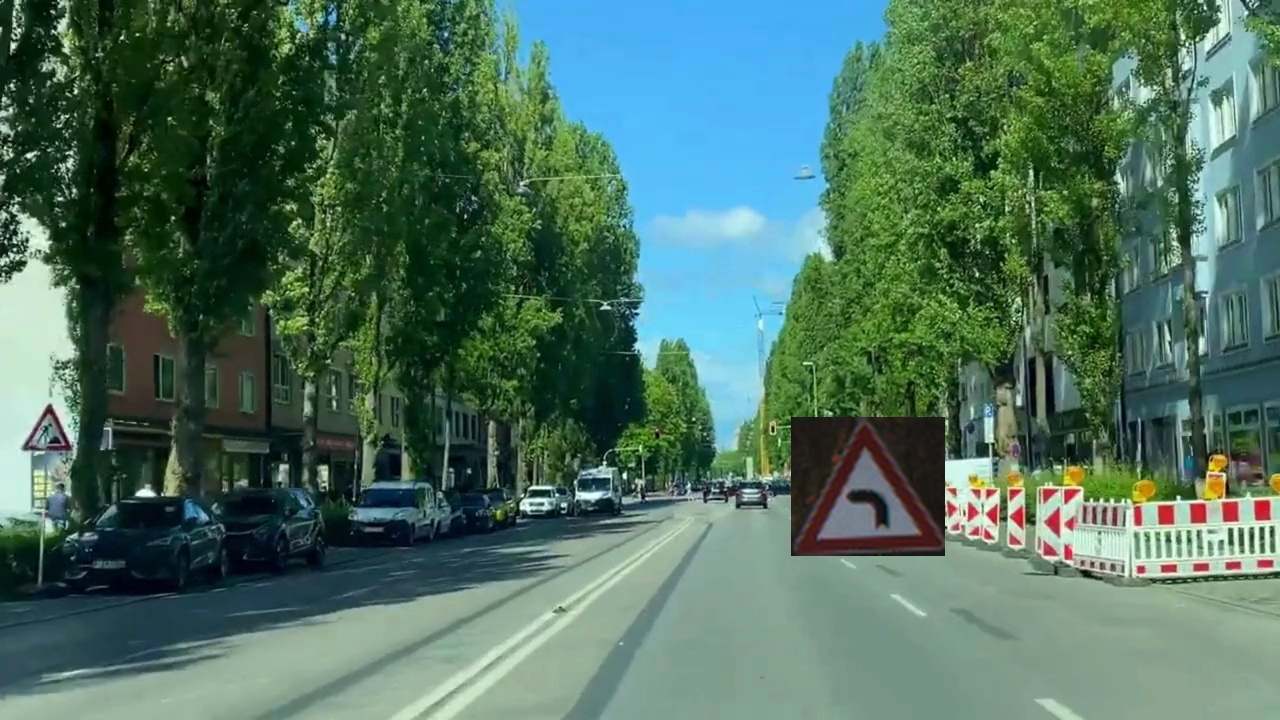Curve left: (791, 417, 945, 556)
